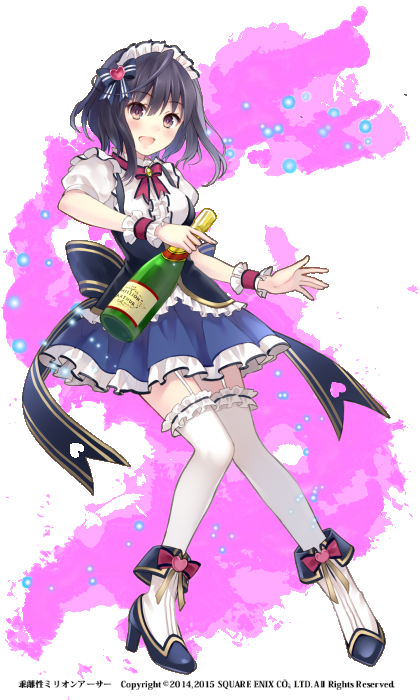纸片人正脸: (83, 41, 206, 164)
